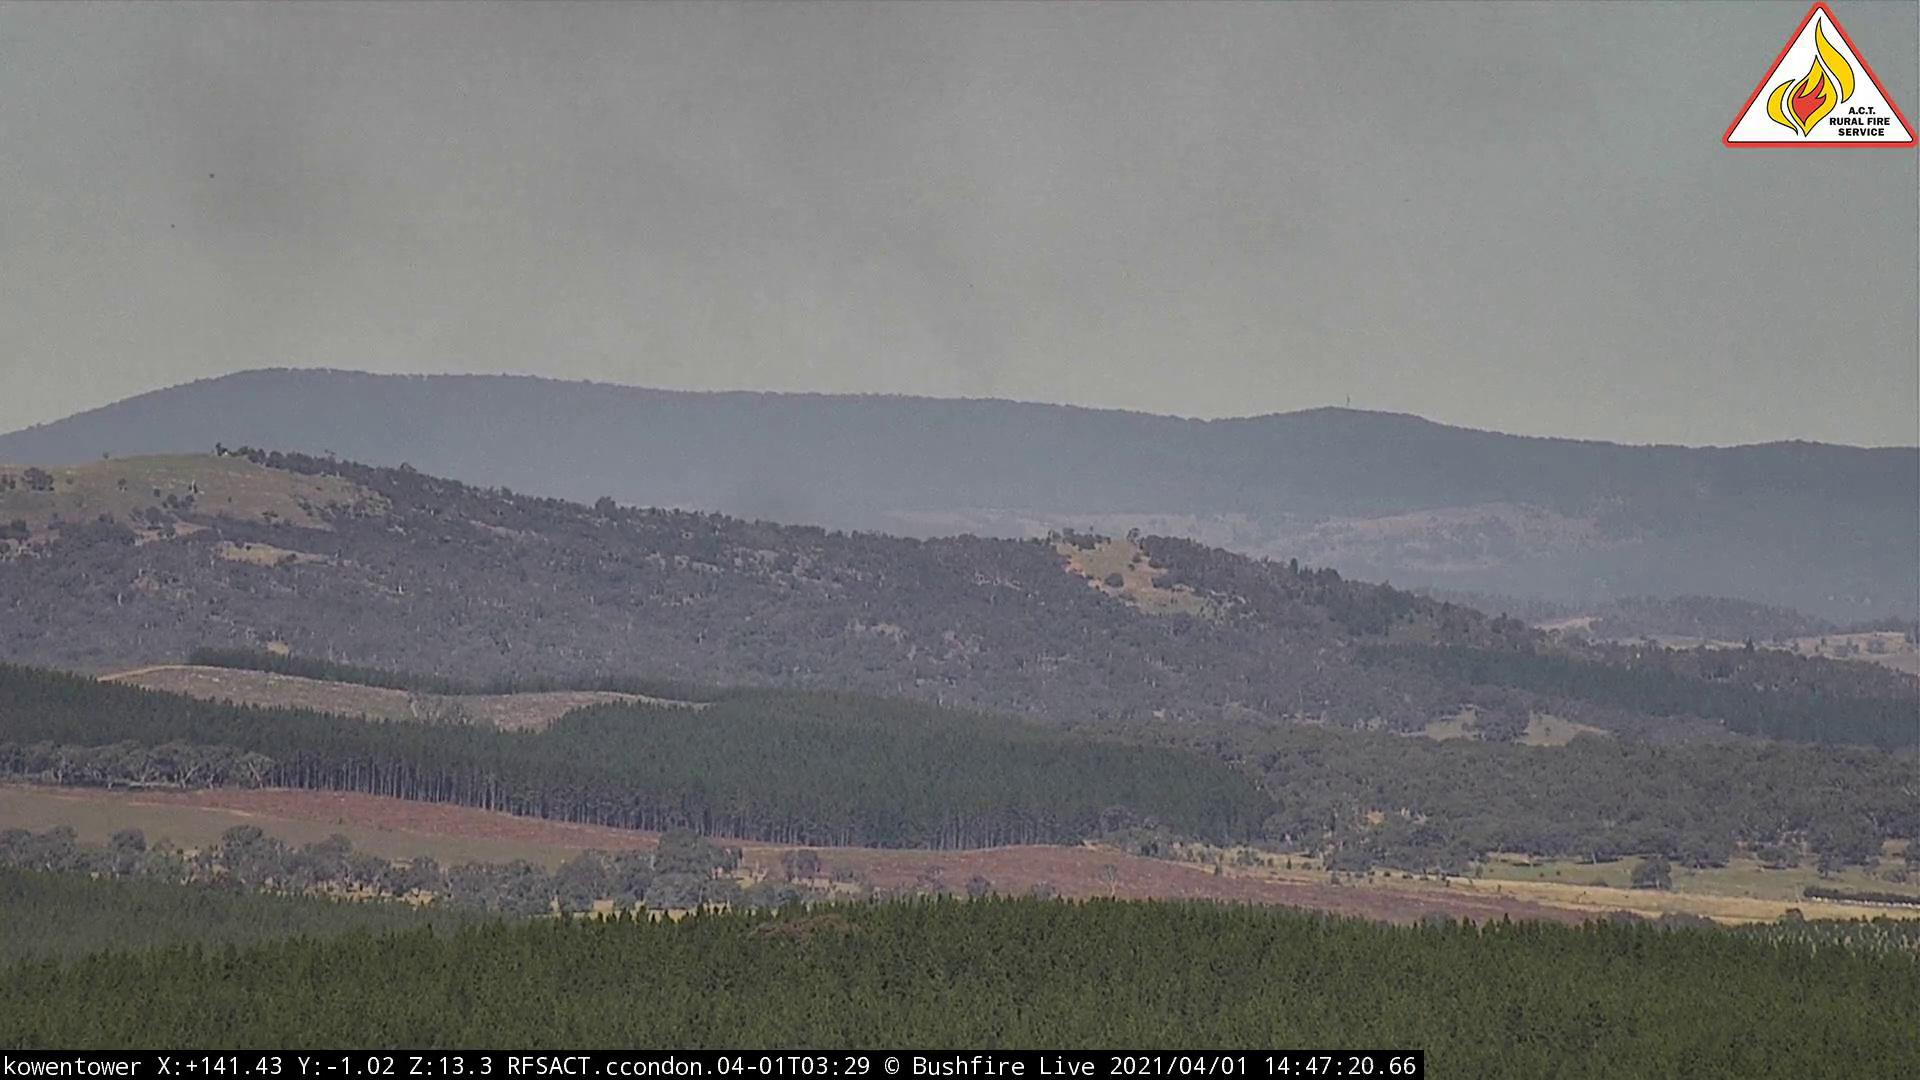instance_salient_object: (160, 3, 1036, 414)
